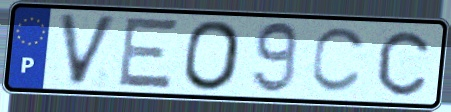9: (248, 20, 301, 97)
C: (307, 25, 370, 97), (376, 29, 432, 99)
E: (114, 15, 182, 91)
O: (181, 18, 244, 93)
V: (55, 11, 121, 89)
